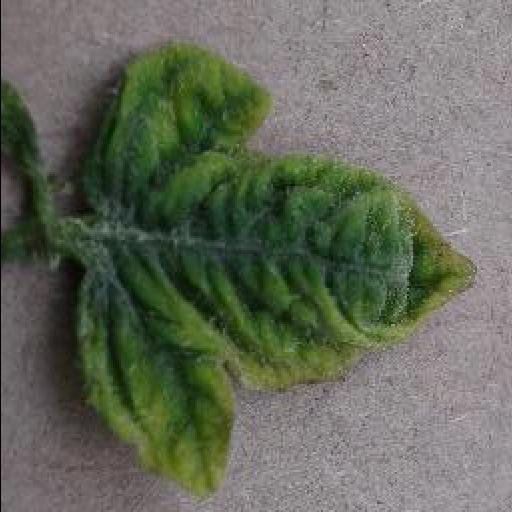disease_tomato: (73, 40, 475, 498)
